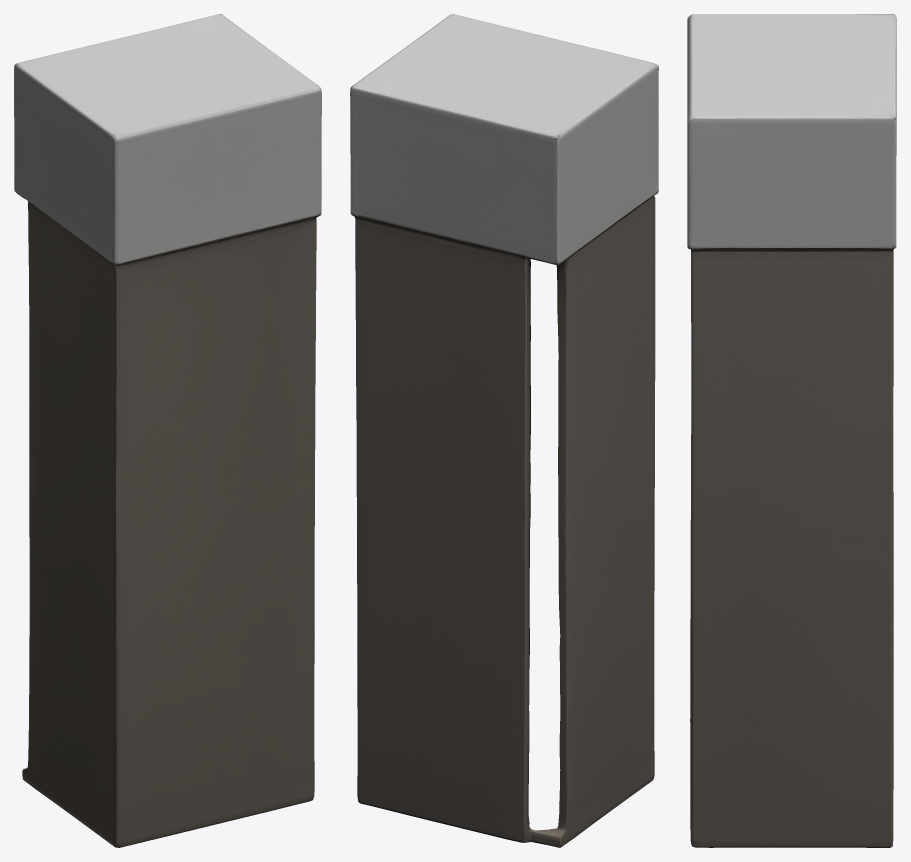
3 renders of one model, left to right at view 1: azimuth 30°, elevation 25°; view 2: azimuth 150°, elevation 25°; view 3: azimuth 270°, elevation 25°, orthographic. The views are drawn at different scales.
Parts seen in each view (by area): view 1: world; view 2: world; view 3: world.
Part boxes in pixels (box(x1,y1,x2,y2)): world: box(14, 14, 321, 847); world: box(350, 14, 658, 847); world: box(687, 14, 896, 847).
Size of the model in its own units: 0.3054 by 1 by 0.2588.
Materials: 1 (1 with a texture image).
